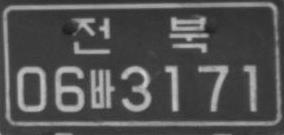0: (15, 64, 47, 112)
1: (159, 64, 189, 112), (236, 64, 264, 111)
3: (119, 65, 152, 112)
6: (54, 65, 85, 111)
7: (197, 64, 229, 112)
바: (88, 68, 114, 108)
전북_D: (72, 14, 209, 54)
